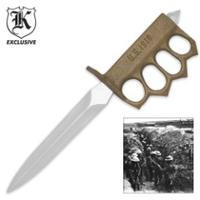knife: (4, 6, 181, 197)
